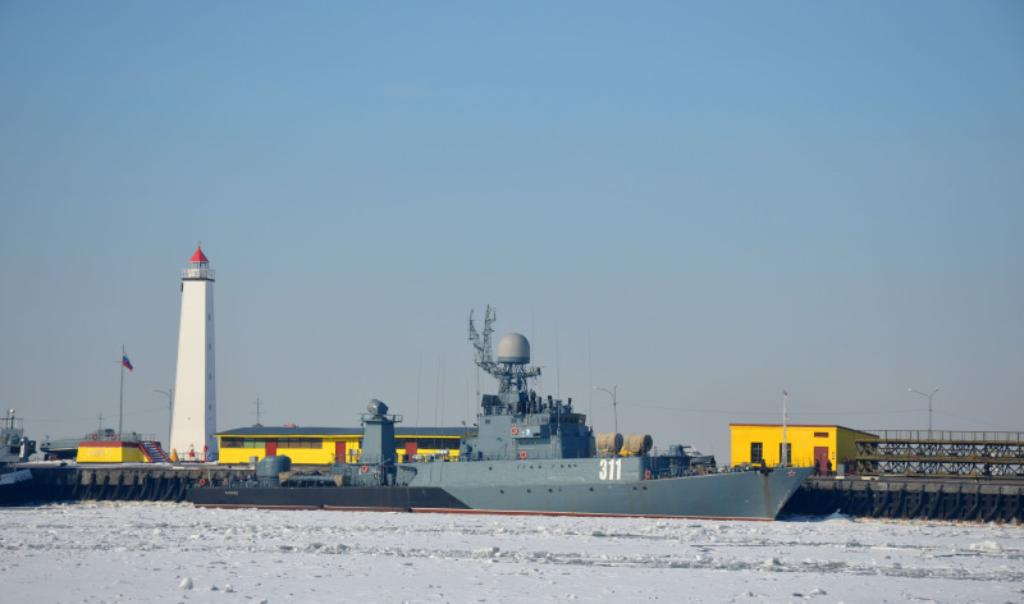Warship: (186, 299, 818, 525)
